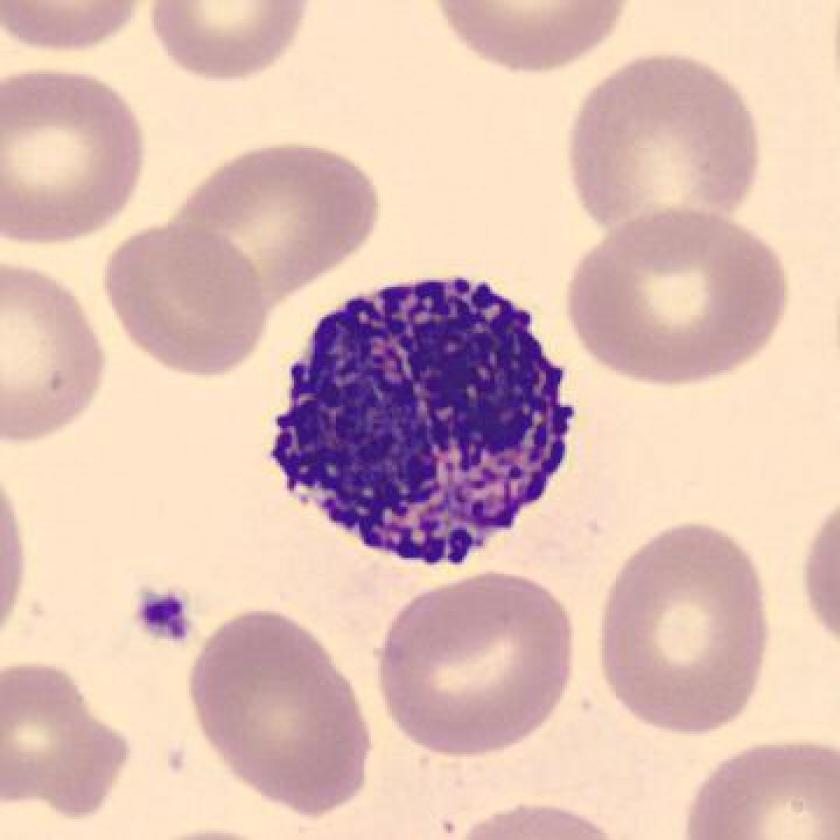basophil: (267, 265, 584, 577)
